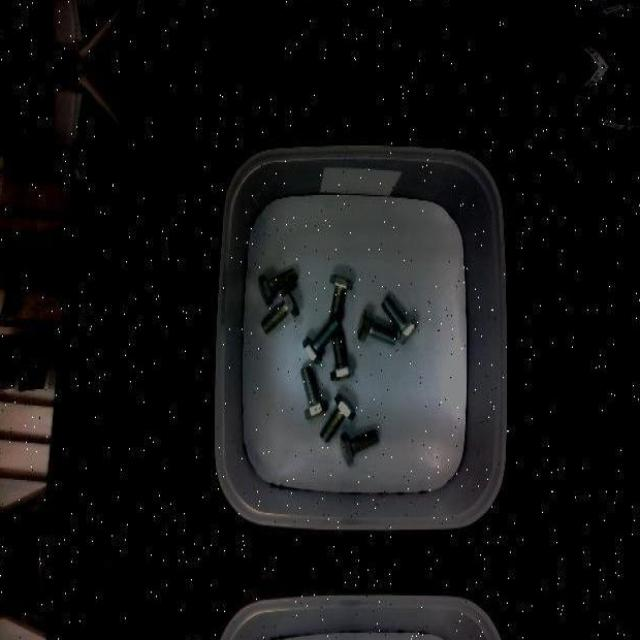screw: (300, 317, 342, 365), (260, 287, 299, 335), (381, 294, 418, 344), (320, 392, 355, 443), (258, 266, 298, 306), (339, 426, 380, 465), (300, 364, 328, 420), (358, 310, 397, 345), (329, 328, 354, 381)
